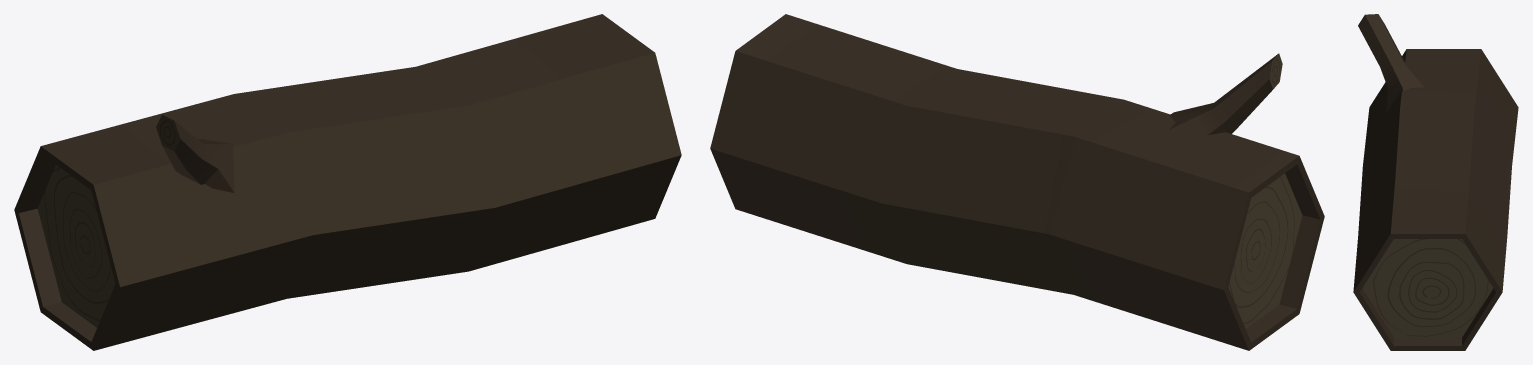
Rendered from fallen_tree_model.fbx.
The picture shows the model from 3 angles, left to right: view 1: azimuth 30°, elevation 25°; view 2: azimuth 150°, elevation 25°; view 3: azimuth 270°, elevation 25°; orthographic projection. The views are drawn at different scales.
Parts seen in each view (by area): view 1: pCylinder1; view 2: pCylinder1; view 3: pCylinder1.
Part boxes in pixels (bbox=[...]): pCylinder1: bbox=[14, 14, 681, 350]; pCylinder1: bbox=[710, 14, 1324, 350]; pCylinder1: bbox=[1353, 14, 1518, 350].
Bounding box in the file's own units: 8.07 × 3.42 × 2.97.
1 material, 1 textured.
